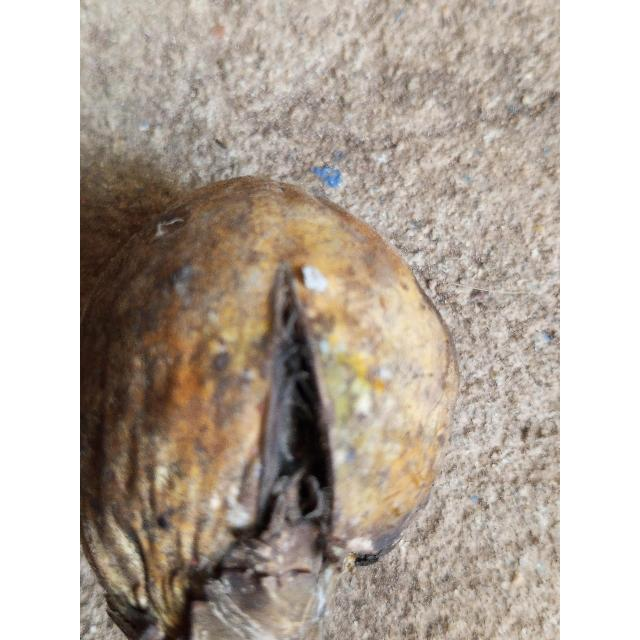damaged: (80, 176, 459, 640)
